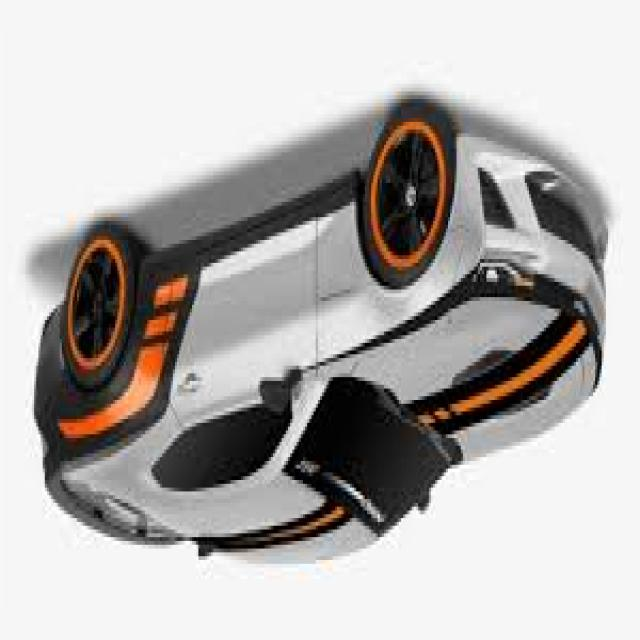Car: (34, 103, 608, 571)
